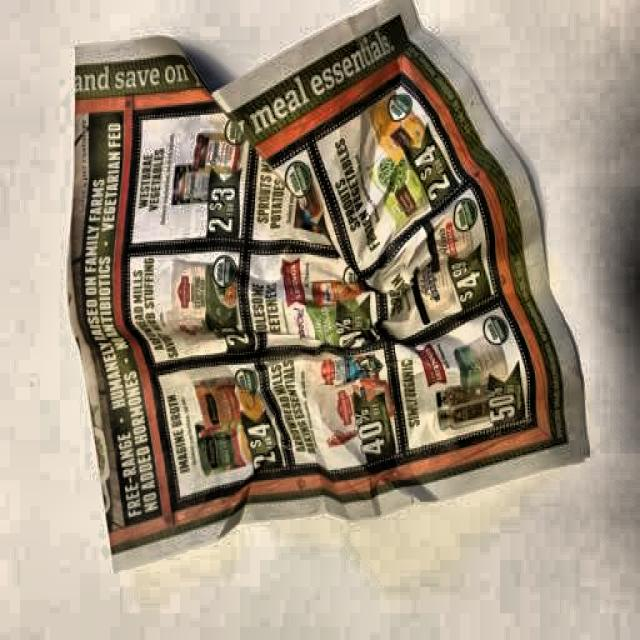paper: (66, 34, 579, 503)
